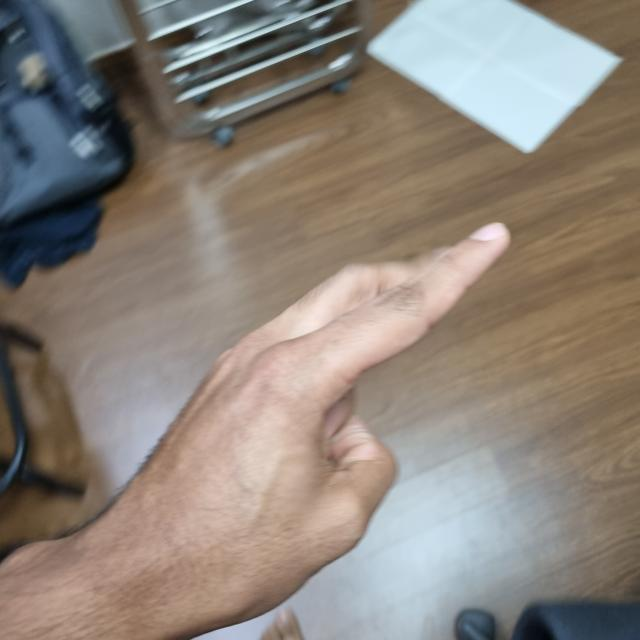Scissors: (102, 230, 506, 631)
